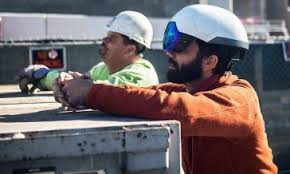Person_wearing_helmet: (100, 9, 155, 40)
